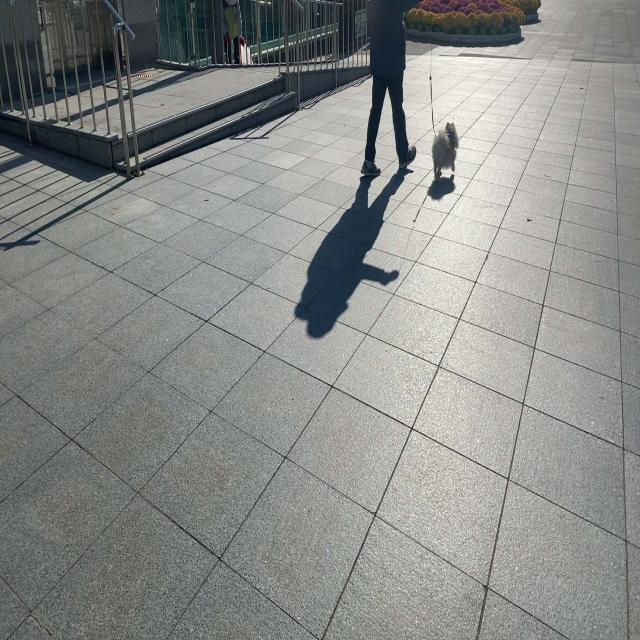Leashed_Dog: (384, 0, 460, 183)
